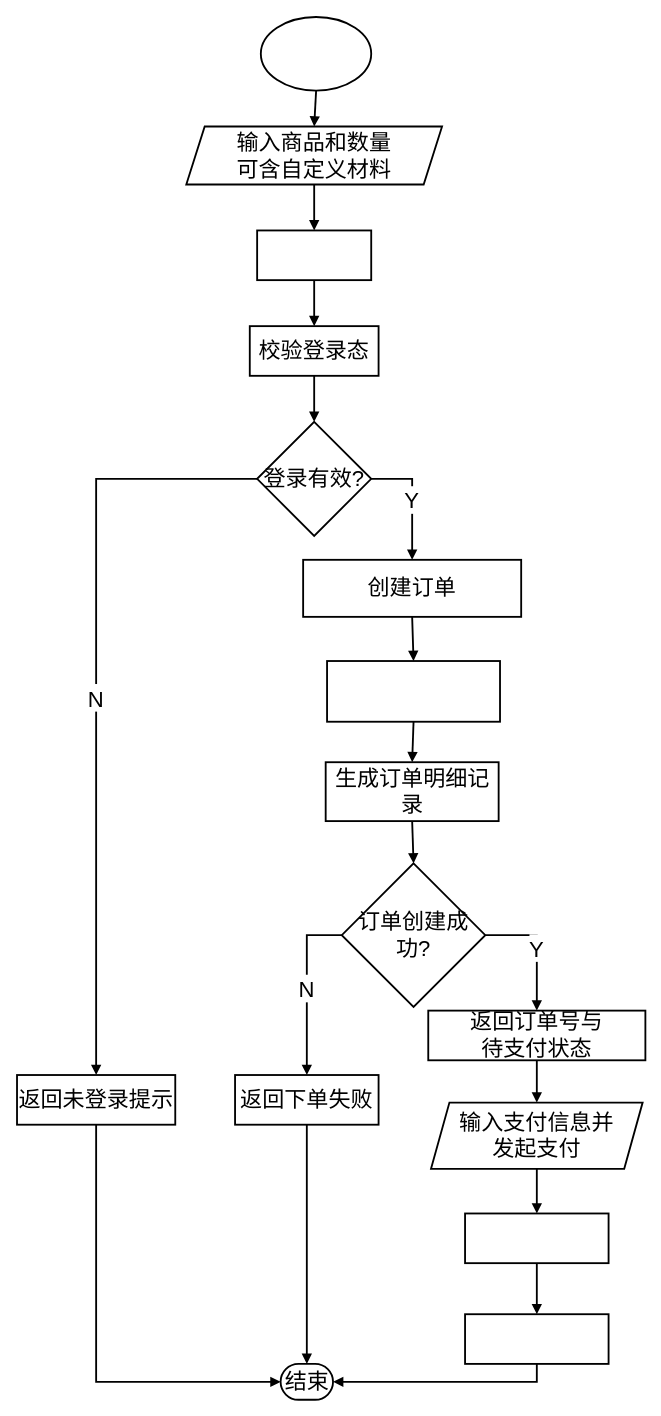
This 661x1416 diagram has some shape labels left out. Here are the shapes that lost their labels. From the top down, the centre of each, then its label:
At point (315, 53): "开始".
At point (314, 255): "提交下单".
At point (413, 691): "生成订单主表记录".
At point (536, 1238): "更新支付状态".
At point (536, 1338): "返回支付结果".
